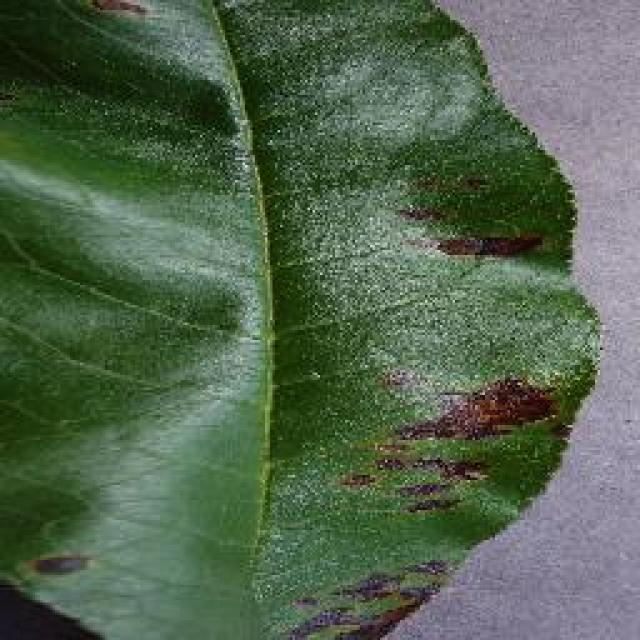Peach_Bacterial_Spot: (238, 121, 601, 640)
